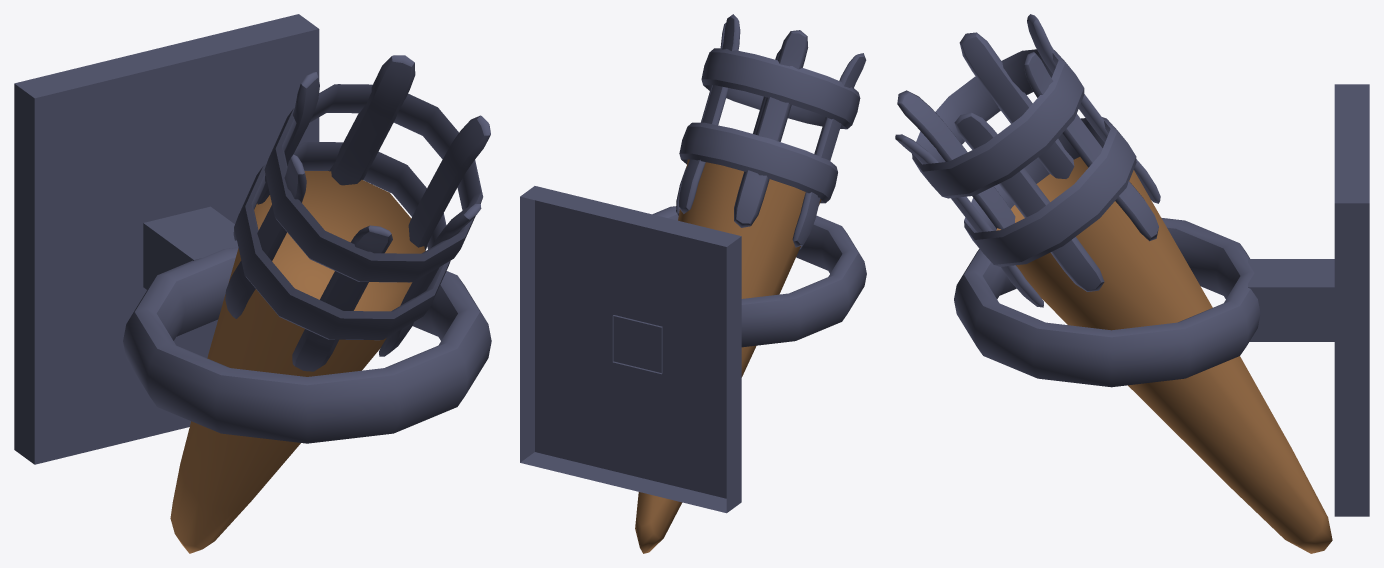
File: Torch.fbx
3 renders of one model, left to right at view 1: azimuth 30°, elevation 25°; view 2: azimuth 150°, elevation 25°; view 3: azimuth 270°, elevation 25°, orthographic. The views are drawn at different scales.
Visible parts, largest first — view 1: Torch; view 2: Torch; view 3: Torch.
Boxes of the visible parts, bbox=[...] form: Torch: bbox=[14, 14, 491, 553]; Torch: bbox=[520, 14, 866, 553]; Torch: bbox=[895, 14, 1369, 553].
Size of the model in its own units: 27.62 by 50.2 by 41.35.
2 materials, 2 textured.
